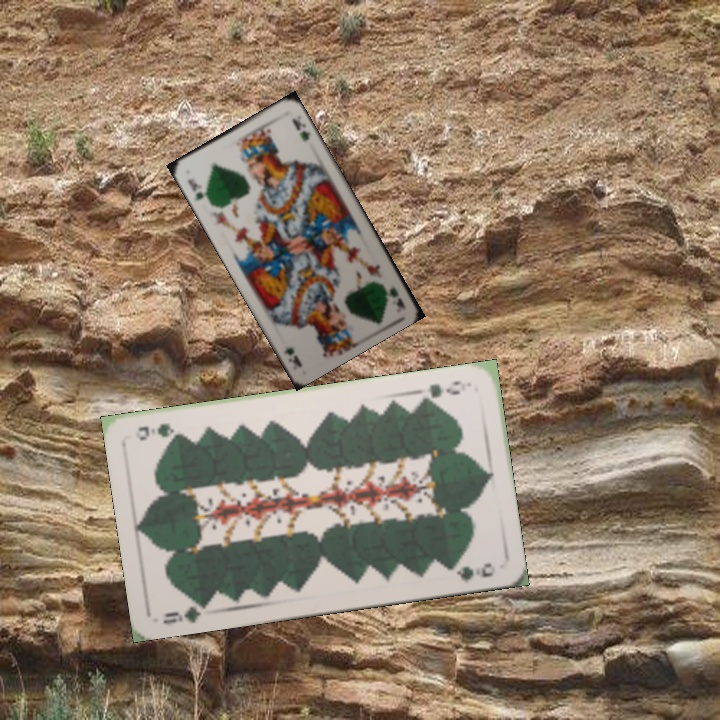G9: (159, 597, 212, 627), (416, 376, 469, 404)
GK: (184, 174, 212, 204), (385, 285, 407, 310)
